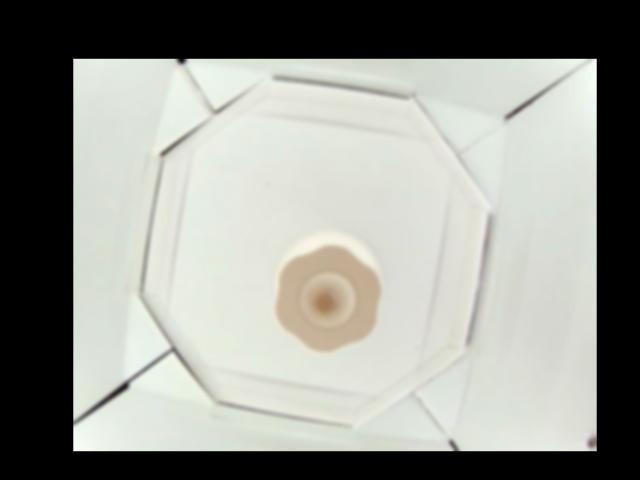Cup: (272, 231, 379, 357)
